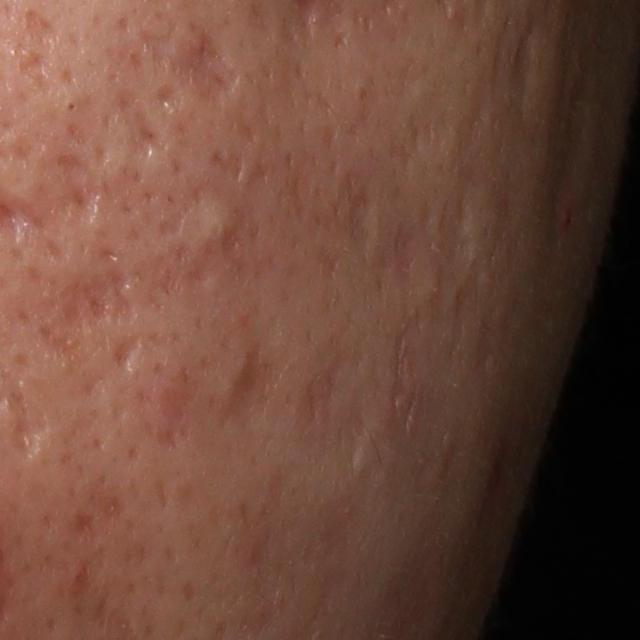atrophic_scar: (20, 269, 145, 367), (134, 14, 245, 110), (214, 342, 288, 436), (47, 151, 104, 228), (114, 84, 169, 162), (156, 372, 206, 447), (339, 171, 376, 268), (106, 333, 147, 375), (208, 146, 249, 183), (17, 47, 53, 85), (20, 8, 57, 42), (156, 84, 183, 113)
hypertrophic_scar: (183, 195, 244, 241)
